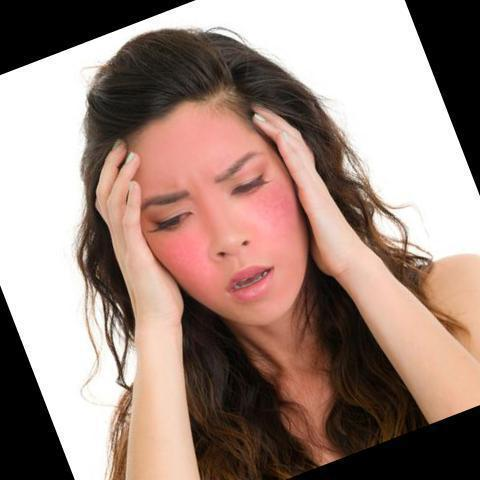Drunk: (131, 129, 300, 313)
